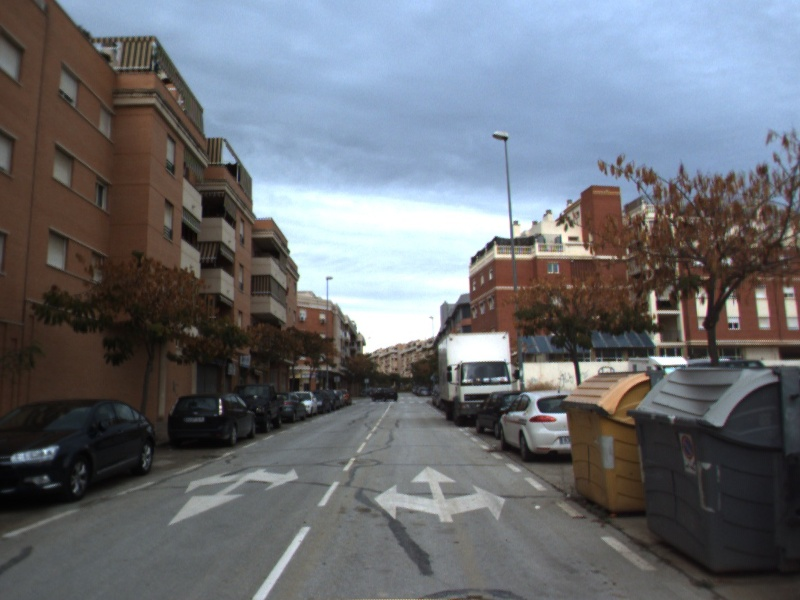STRAIGHT_LEFT_RIGHT: (372, 463, 508, 524)
